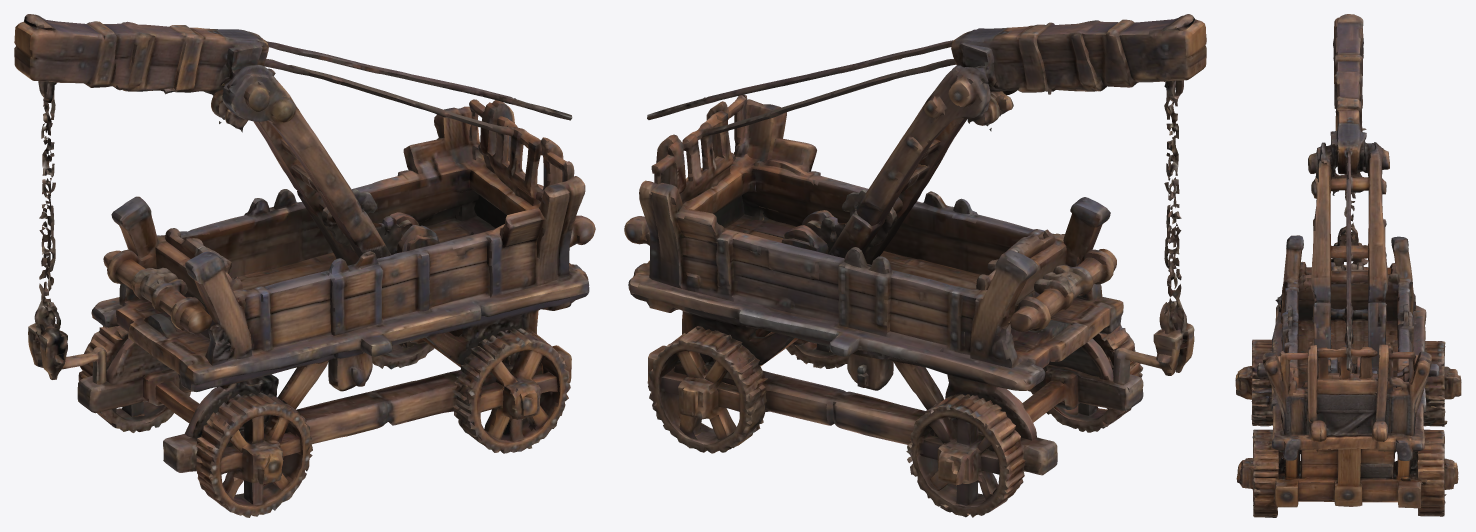
File: petrobolos__siege-engine.glb
3 renders of one model, left to right at view 1: azimuth 30°, elevation 25°; view 2: azimuth 150°, elevation 25°; view 3: azimuth 270°, elevation 25°, orthographic. The views are drawn at different scales.
Bounding box in the file's own units: 2 × 1.7 × 0.9895.
1 material, 1 textured.
